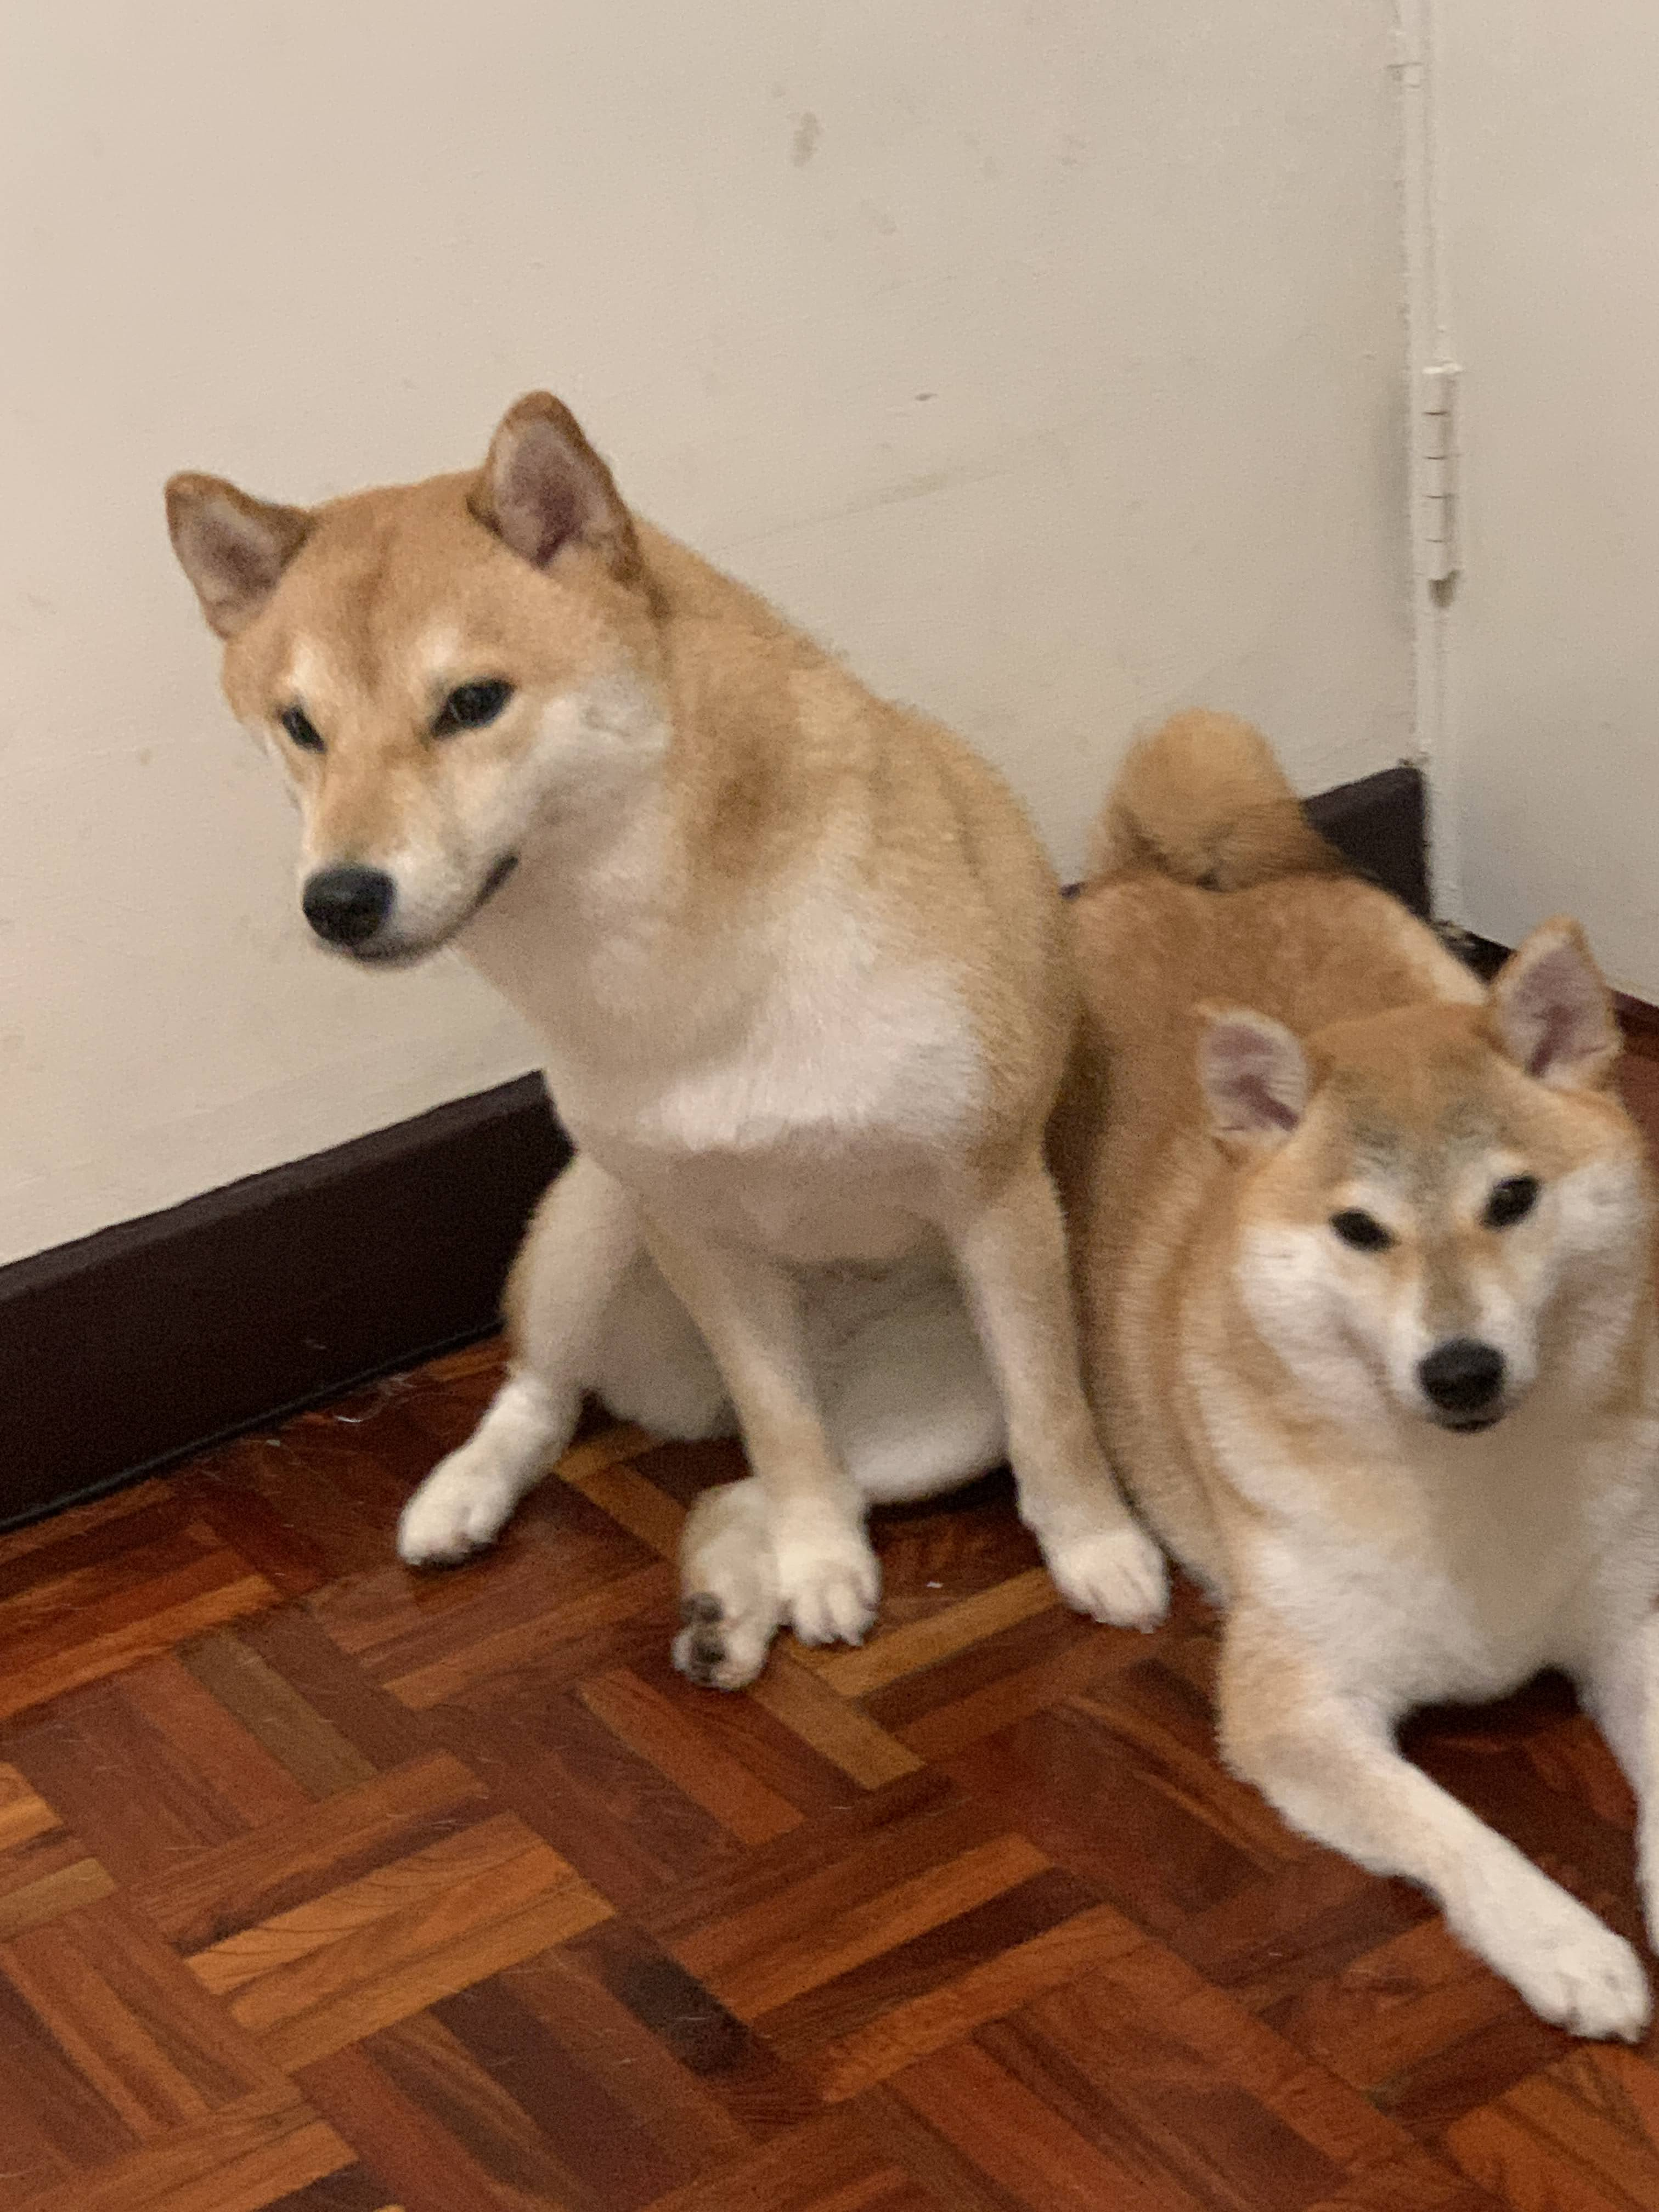Lie down: (1033, 693, 1659, 2059)
Sit down: (94, 399, 1140, 1658)
